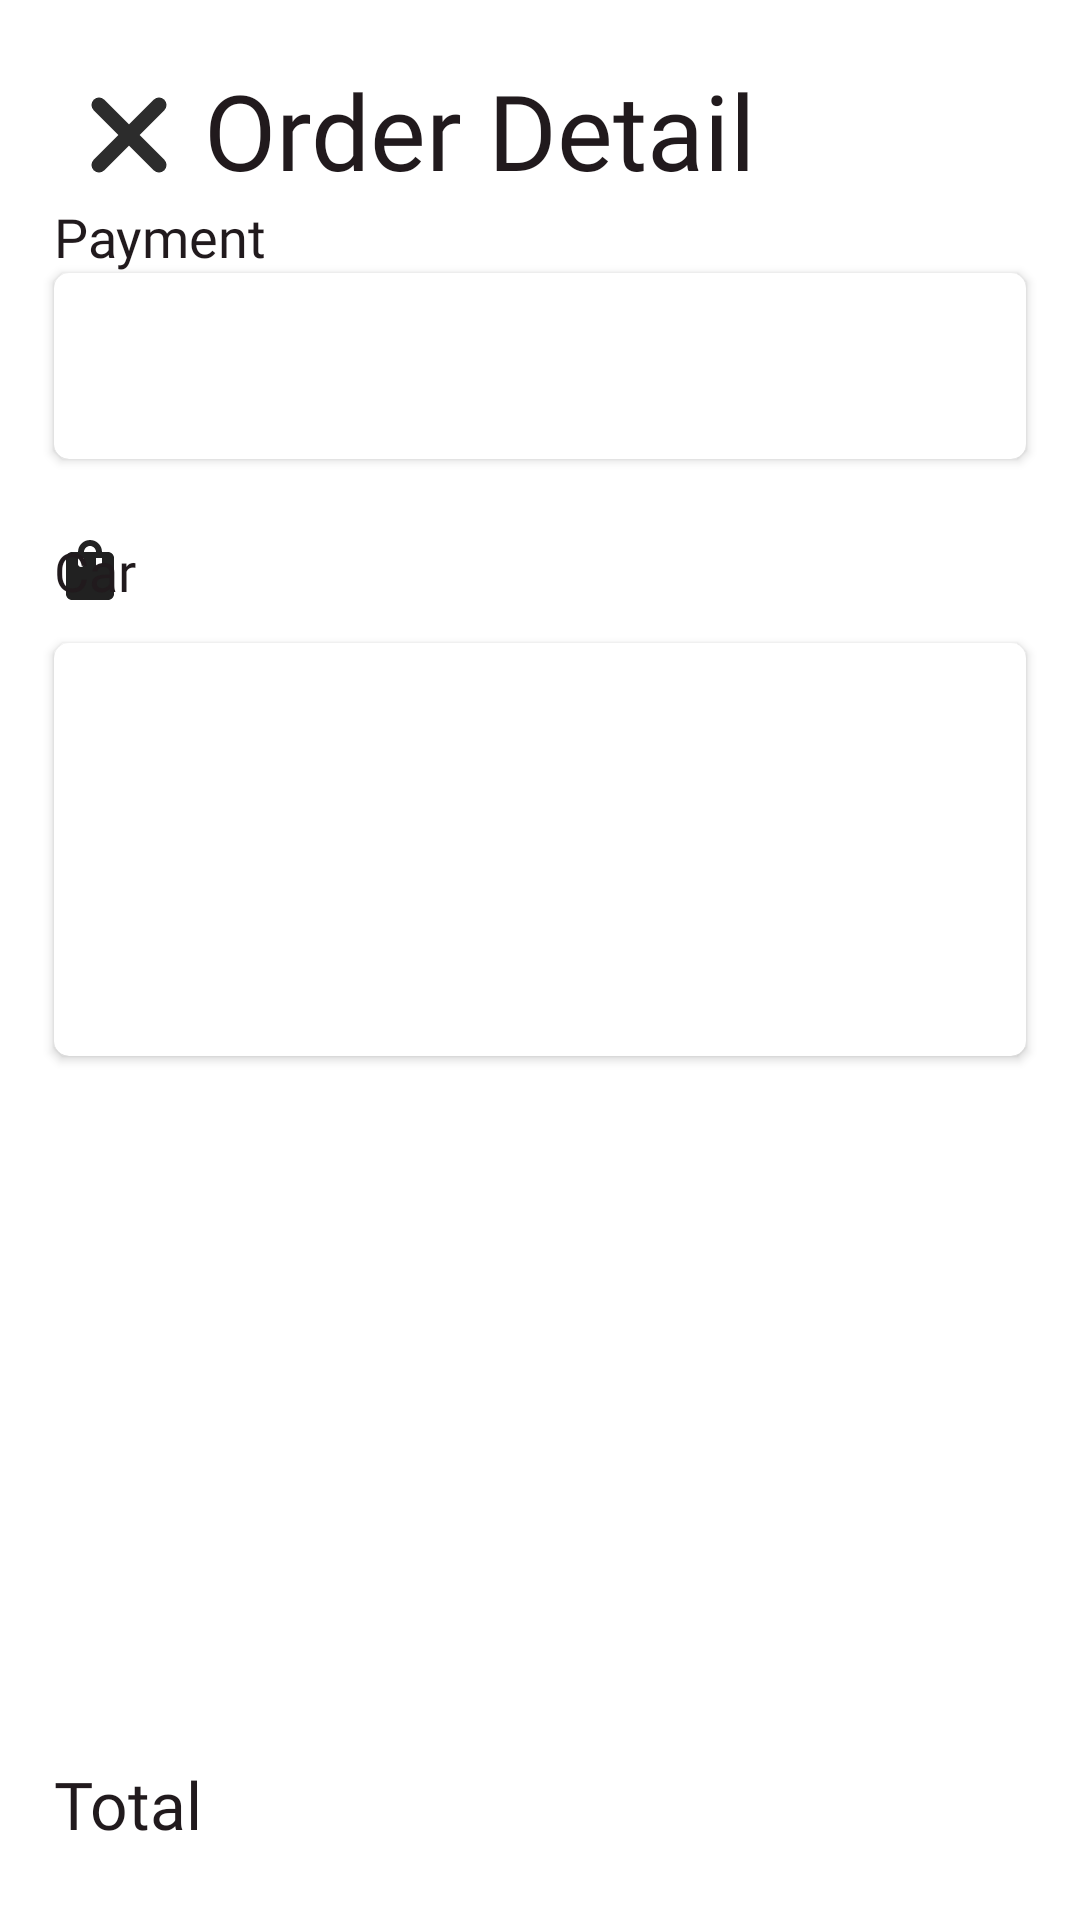

Screen size 1080w x 1920h. Icon name, then its box in pixels as [left=x1, top=y1, right=x2, bottom=y2]:
close: [left=91, top=97, right=167, bottom=173]
